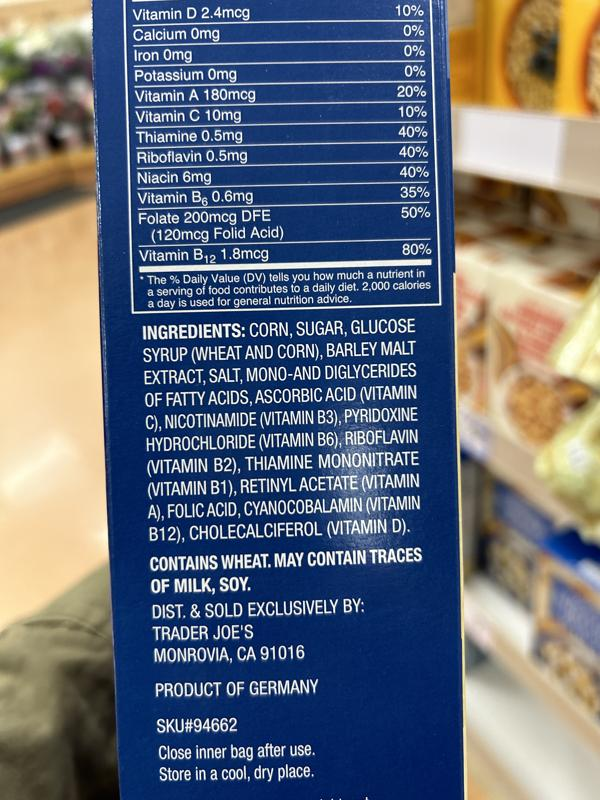ingredients: (138, 315, 425, 546)
